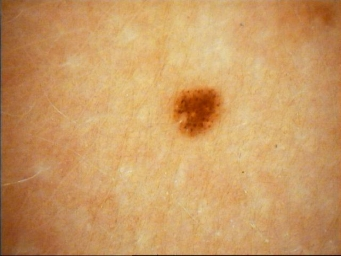melanoma: (174, 90, 222, 134)
